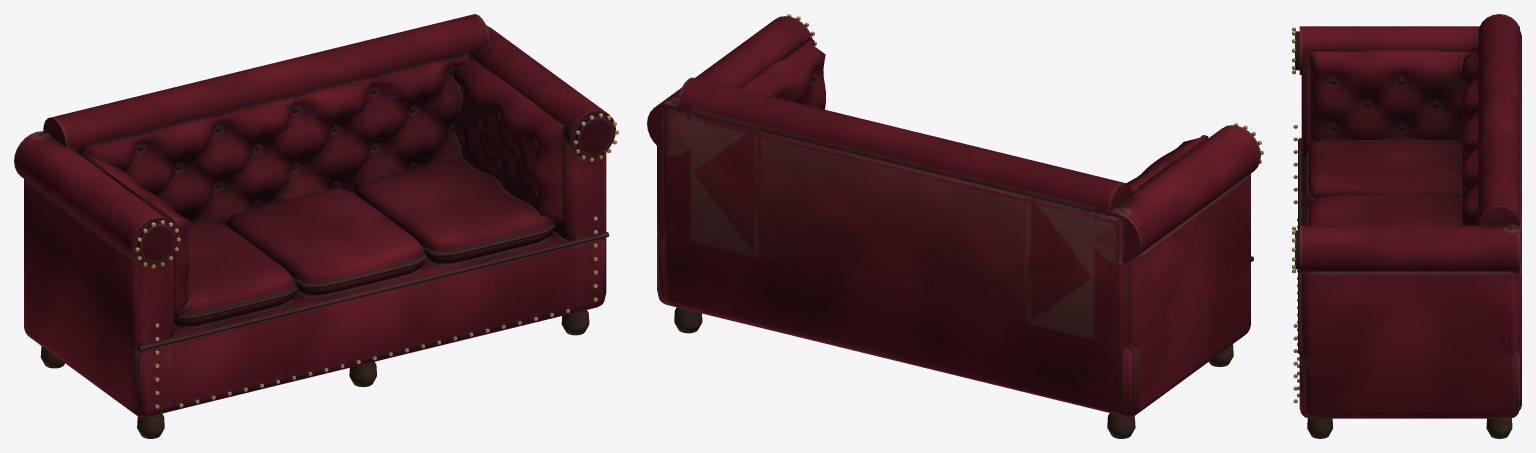
File: VelvetChesterfield.fbx
3 views of the same model, side by side, from view 1: azimuth 30°, elevation 25°; view 2: azimuth 150°, elevation 25°; view 3: azimuth 270°, elevation 25° (orthographic). The views are drawn at different scales.
Parts seen in each view (by area): view 1: VelvetChesterfield; view 2: VelvetChesterfield; view 3: VelvetChesterfield.
Part boxes in pixels (x1,y1,x2,y2): VelvetChesterfield: (14,14,618,438); VelvetChesterfield: (647,14,1263,438); VelvetChesterfield: (1292,14,1521,438).
Size of the model in its own units: 638 by 309 by 282.
